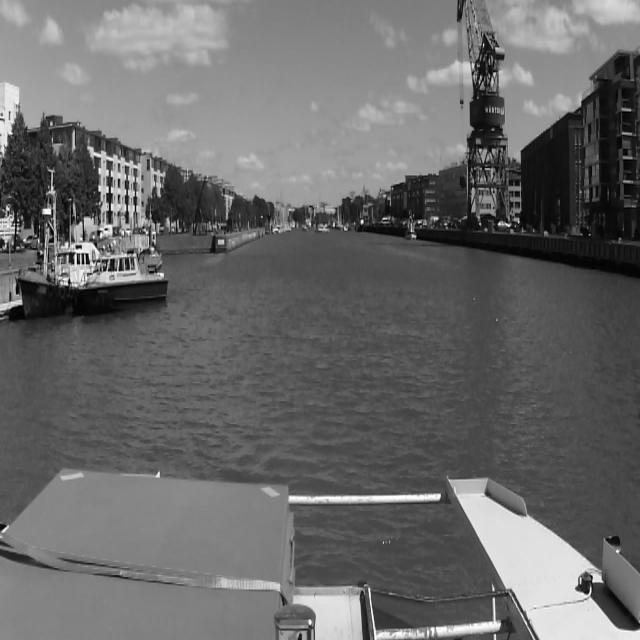ship: (78, 252, 168, 318), (405, 216, 417, 240), (304, 215, 310, 229)
